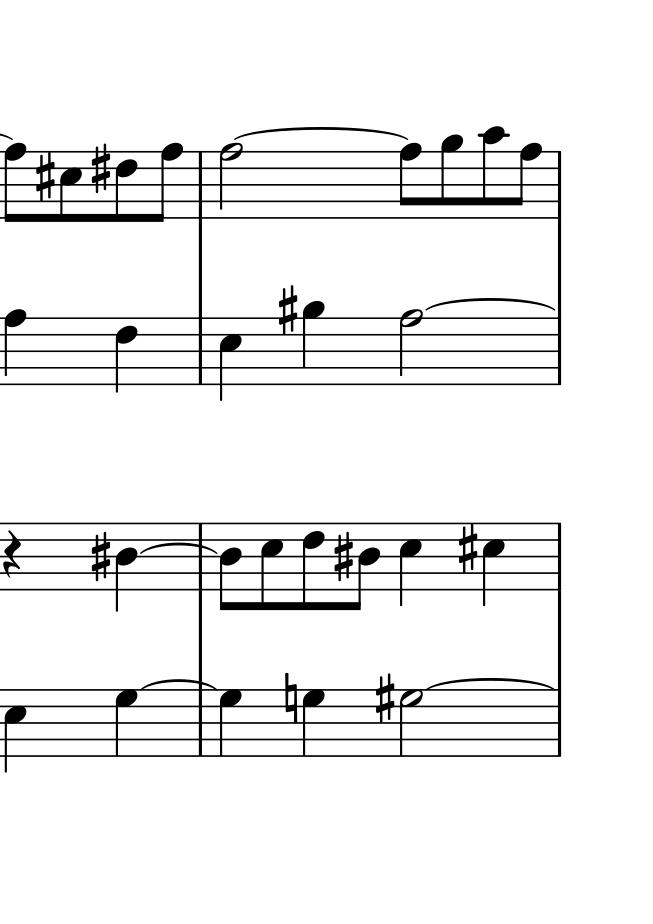2_7: (398, 689, 422, 757)
2_8: (217, 141, 241, 221), (398, 309, 423, 383)
4_4: (114, 522, 138, 613)
4_5: (397, 523, 424, 607), (2, 690, 29, 772), (217, 317, 242, 405), (482, 520, 505, 610)
4_6: (114, 316, 137, 392)
4_7: (301, 686, 327, 756), (113, 688, 139, 756), (217, 688, 243, 756)
4_8: (3, 309, 27, 384)
8_10: (482, 124, 508, 222)
8_4: (350, 522, 380, 613), (219, 522, 243, 613)
8_5: (258, 520, 284, 612), (57, 149, 82, 224)
8_6: (300, 522, 325, 613), (114, 149, 138, 224)
8_8: (150, 140, 183, 224), (513, 141, 543, 221), (2, 141, 26, 225), (398, 141, 422, 222)
8_9: (439, 134, 464, 221), (301, 299, 325, 387)
Natural: (283, 678, 298, 727)
Rests4: (2, 529, 23, 580)
Sharp: (456, 522, 479, 576), (373, 673, 396, 727), (34, 150, 56, 204), (276, 283, 298, 336), (90, 530, 111, 584), (90, 142, 111, 195), (333, 530, 354, 583)
Single_barline: (548, 317, 567, 384), (192, 692, 210, 757), (192, 317, 209, 385), (551, 690, 567, 759), (551, 523, 567, 590), (194, 153, 210, 218), (552, 151, 567, 218), (194, 523, 208, 575)
Slur: (231, 124, 411, 141), (424, 297, 556, 313), (430, 677, 553, 691), (141, 541, 216, 555), (141, 677, 219, 690)
